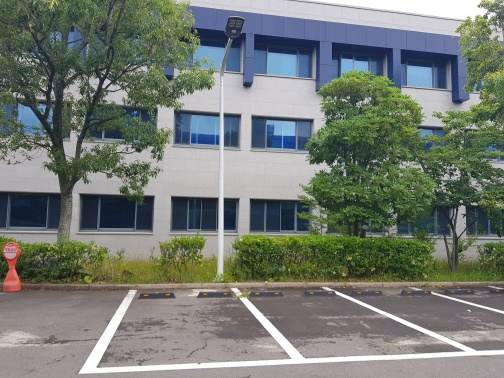College of Social Sciences: (25, 10, 504, 263)
